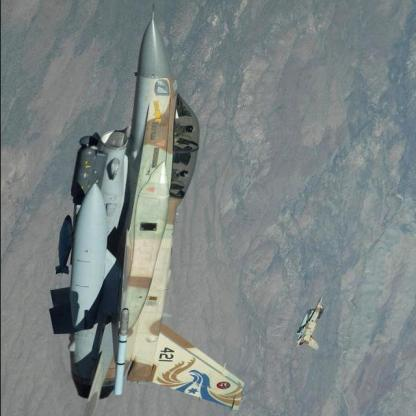MIL_TBM: (69, 185, 109, 365)
